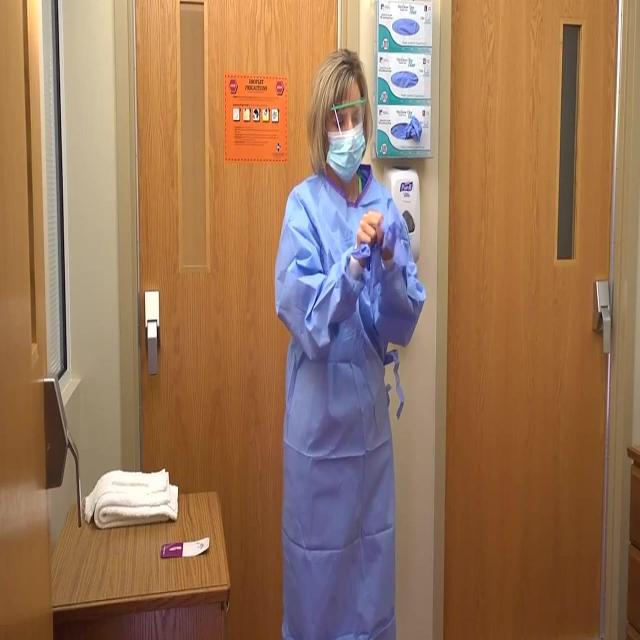Coverall: (266, 160, 412, 636)
Mask: (332, 133, 366, 185)
